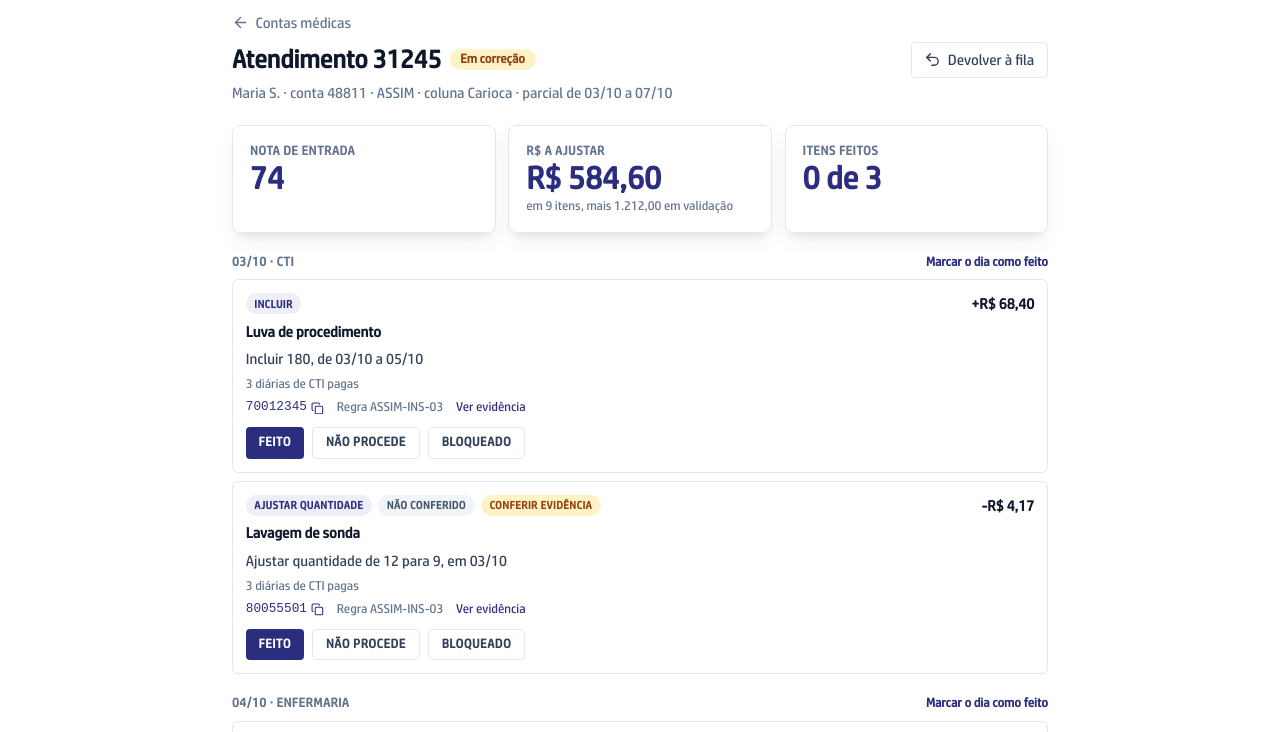
Test case: o código copia com um clique › copia para a área de transferência e mostra o toast
Expected: the heading "Atendimento 31245" is shown, [232,43,441,77]
Click the button named "Copiar código 70012345".
click(285, 408)  # box [246,399,324,416]
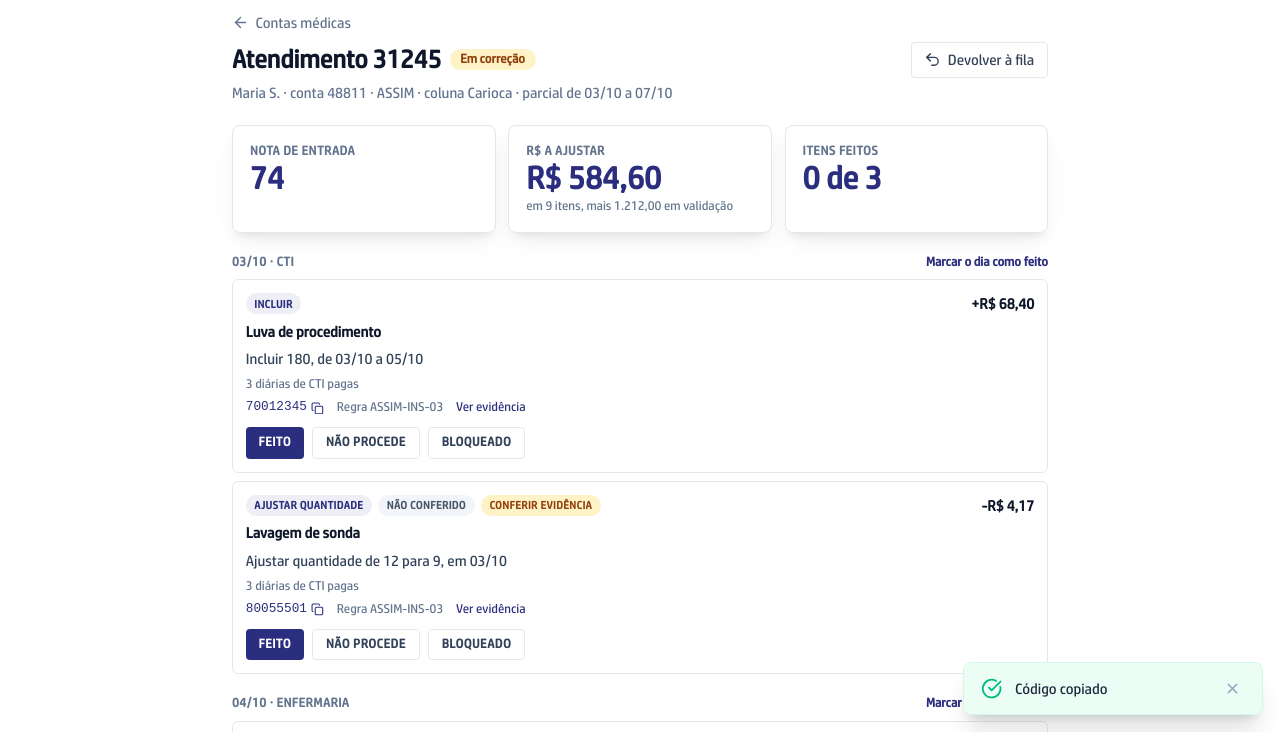
Now the text "Código copiado" is shown, box [1015,680,1108,697]
